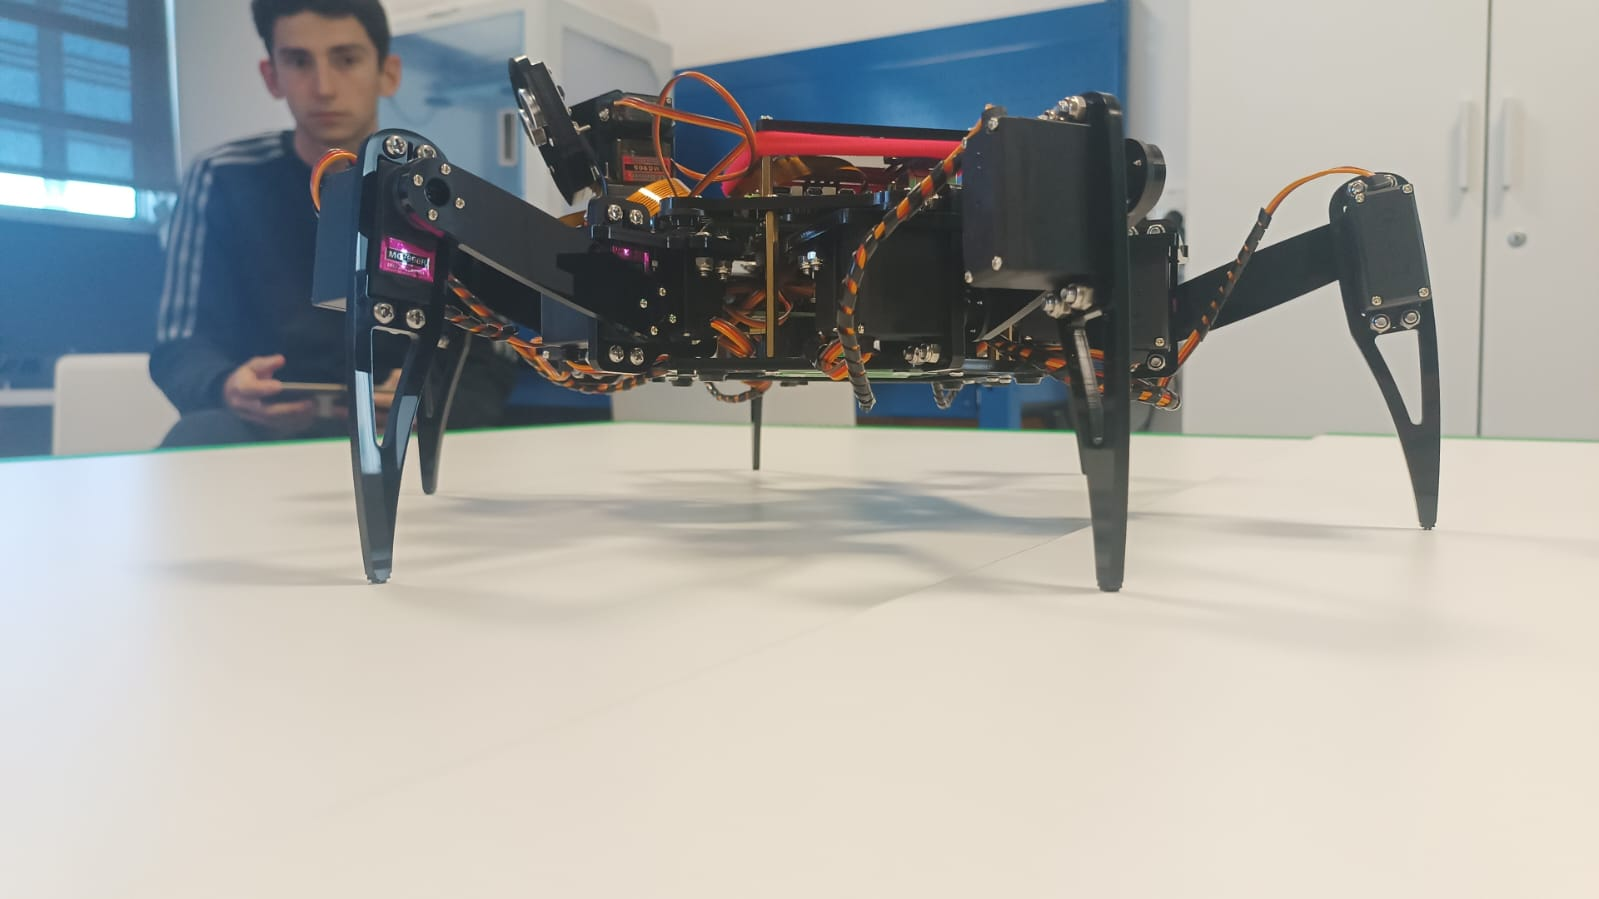hexapodo_propio: (310, 53, 1445, 595)
